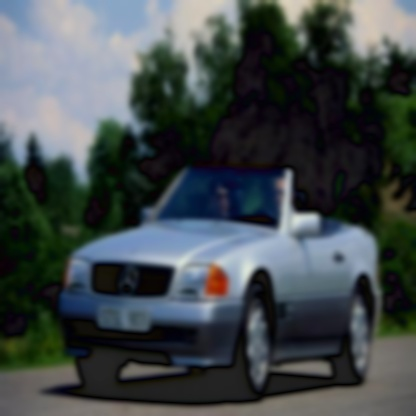Vehicle: (56, 163, 385, 402)
